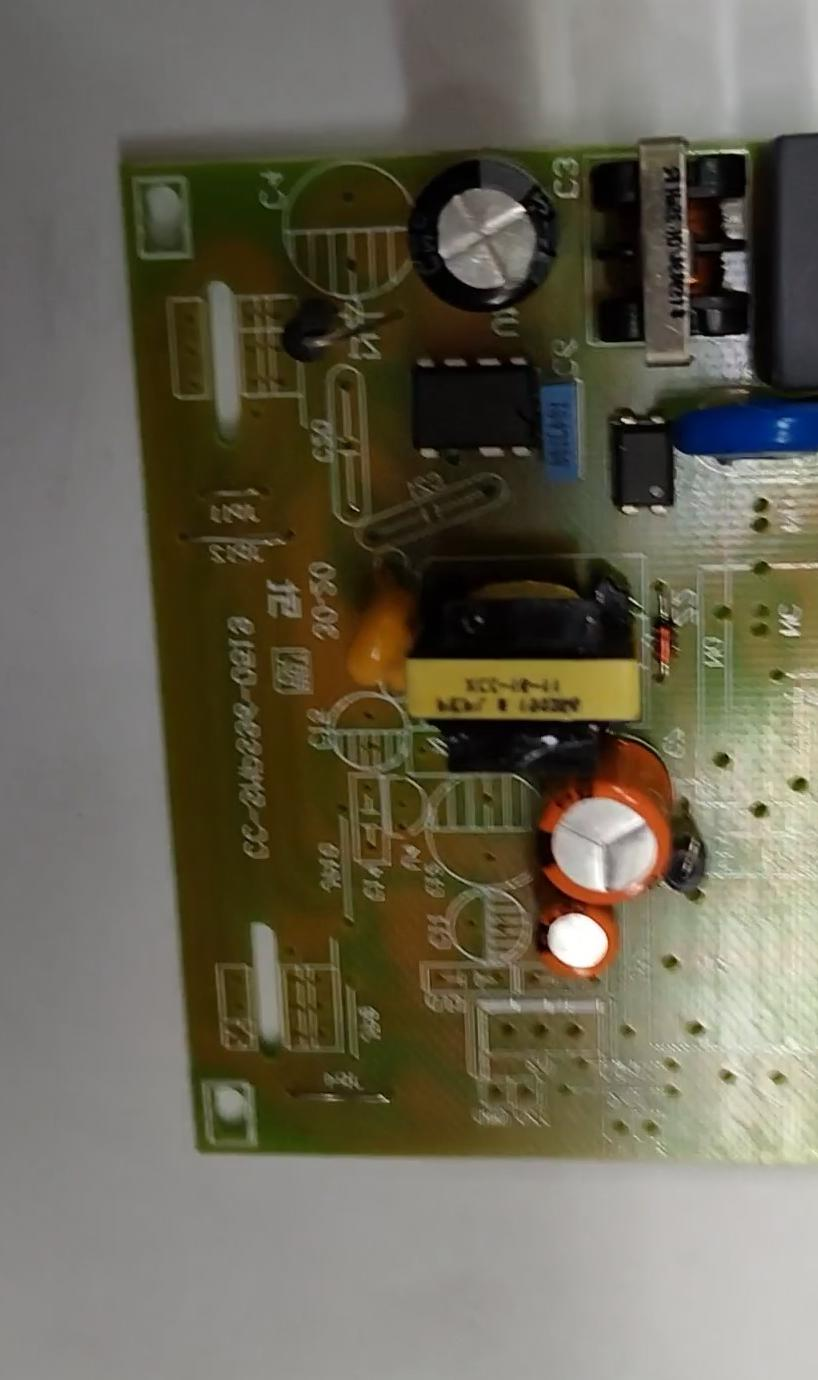Cap1: (537, 743, 676, 905)
Cap2: (536, 902, 621, 981)
Cap3: (415, 151, 553, 314)
MOSFET: (419, 356, 536, 461)
Mov: (676, 400, 817, 455)
Transformer: (410, 556, 640, 777), (606, 133, 755, 364)
